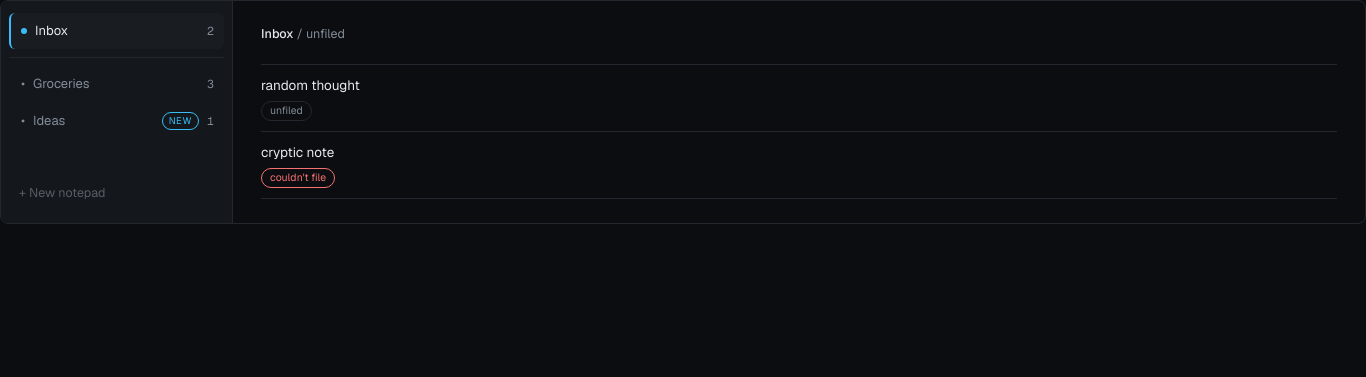
Test: Notes manager page — detail pane › reveals the original only when raw_text differs, on demand
Click the button "• Groceries 3": (116, 83) x1=9 y1=66 x2=224 y2=101
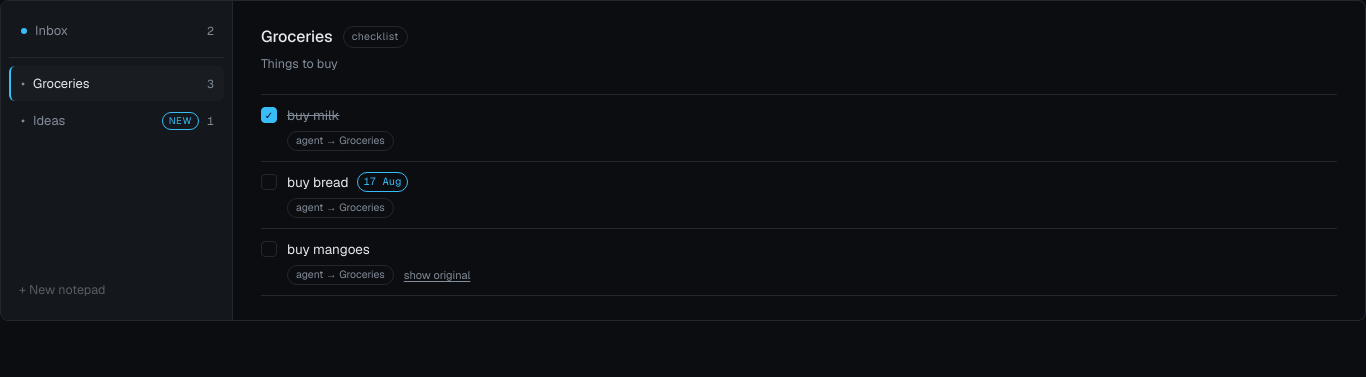
Expected: the text "groceries: buy mangoes" is not shown
Now the number of buttons "show original" is 1
Click the button "show original": (437, 275) x1=404 y1=267 x2=470 y2=283
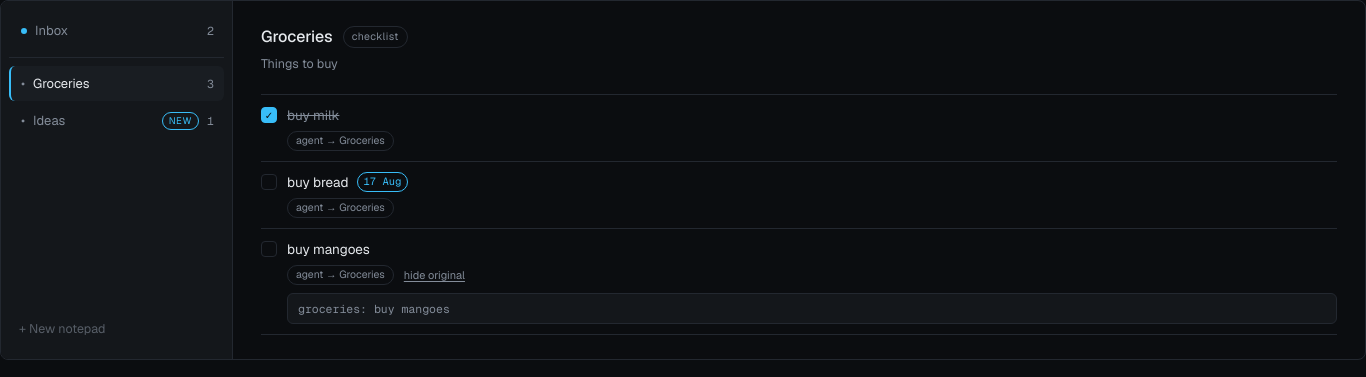
Now the text "groceries: buy mangoes" is shown, box x1=287 y1=293 x2=1337 y2=324
